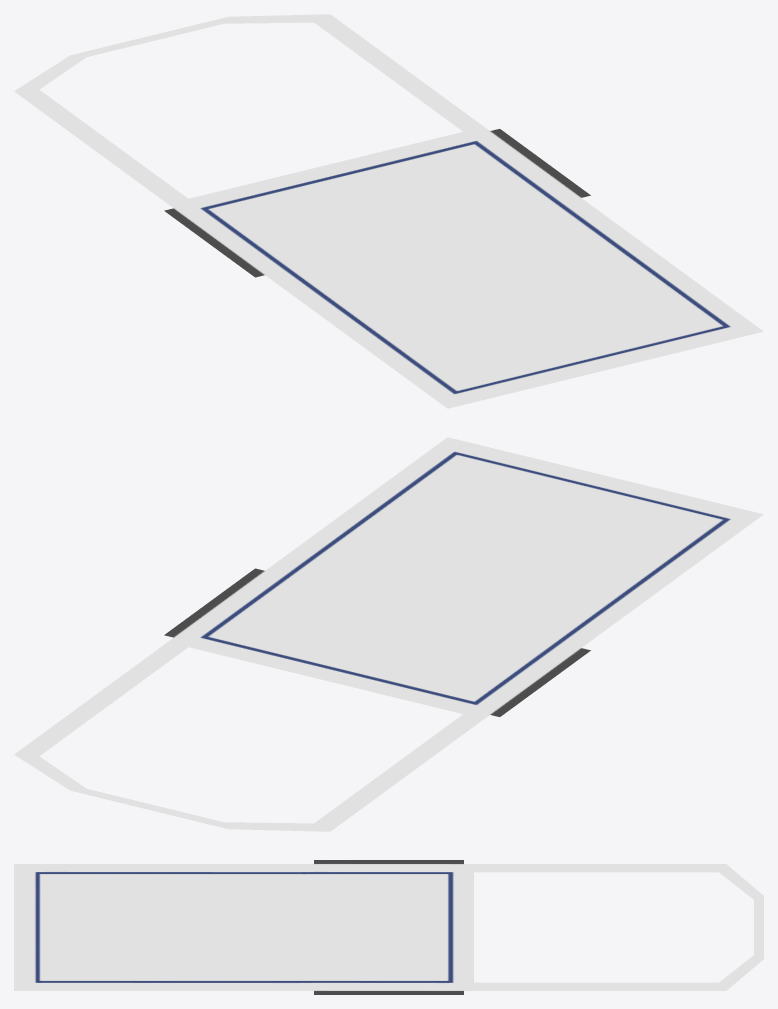
The model's file is Lift_03_Floor_Level_01.fbx.
3 renders of one model, top to bottom at view 1: azimuth 30°, elevation 25°; view 2: azimuth 150°, elevation 25°; view 3: azimuth 270°, elevation 25°, orthographic. The views are drawn at different scales.
Visible parts, largest first — view 1: Lift_03_Floor_Level_01; view 2: Lift_03_Floor_Level_01; view 3: Lift_03_Floor_Level_01.
Part boxes in pixels (x1,y1,x2,y2): Lift_03_Floor_Level_01: (14,14,763,408); Lift_03_Floor_Level_01: (14,437,763,831); Lift_03_Floor_Level_01: (14,860,763,994).
Bounding box in the file's own units: 1700 × 0.000374 × 4000.
